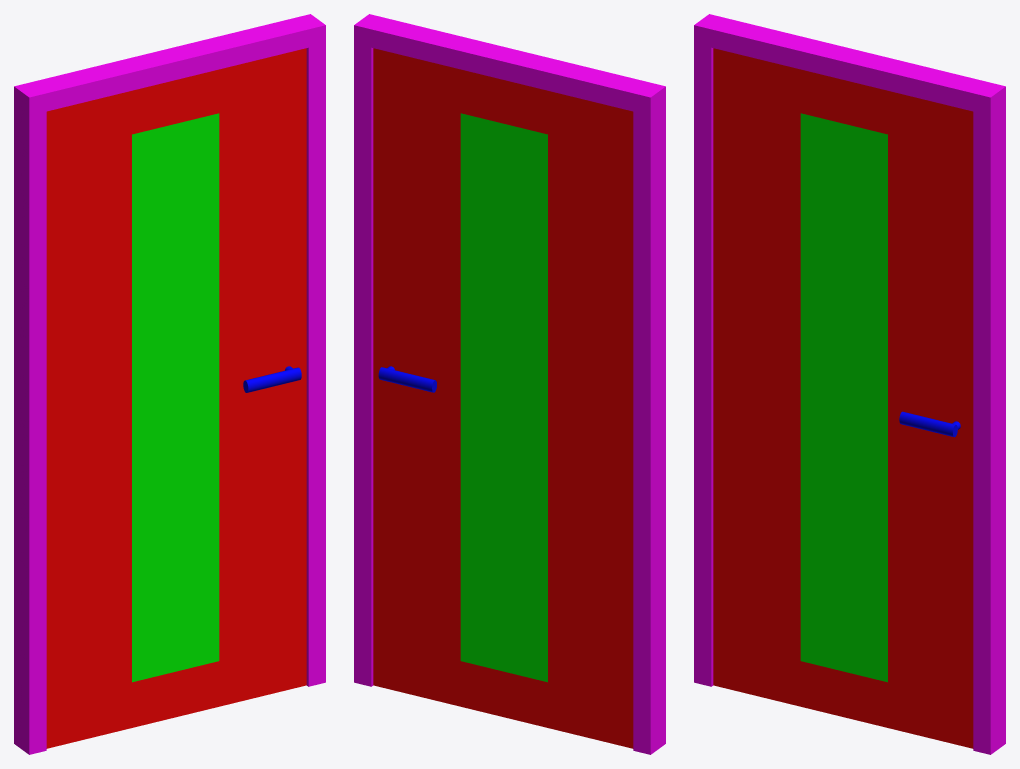
The model's file is pratoo.fbx.
The picture shows the model from 3 angles, left to right: view 1: azimuth 30°, elevation 25°; view 2: azimuth 150°, elevation 25°; view 3: azimuth 330°, elevation 25°; orthographic projection.
Visible parts, largest first — view 1: pasted__pCube1, pasted__pCube2, pasted__pCylinder2; view 2: pasted__pCube1, pasted__pCube2, pasted__pCylinder3; view 3: pasted__pCube1, pasted__pCube2, pasted__pCylinder2.
Part boxes in pixels (<box>): pasted__pCube1: <box>46,48,306,748</box>; pasted__pCube2: <box>14,14,325,754</box>; pasted__pCylinder2: <box>243,367,301,392</box>; pasted__pCube1: <box>373,48,633,748</box>; pasted__pCube2: <box>354,14,665,754</box>; pasted__pCylinder3: <box>378,367,436,392</box>; pasted__pCube1: <box>713,48,973,748</box>; pasted__pCube2: <box>694,14,1005,754</box>; pasted__pCylinder2: <box>899,411,957,437</box>.
Bounding box in the file's own units: 2.25 × 4.77 × 0.3752.
